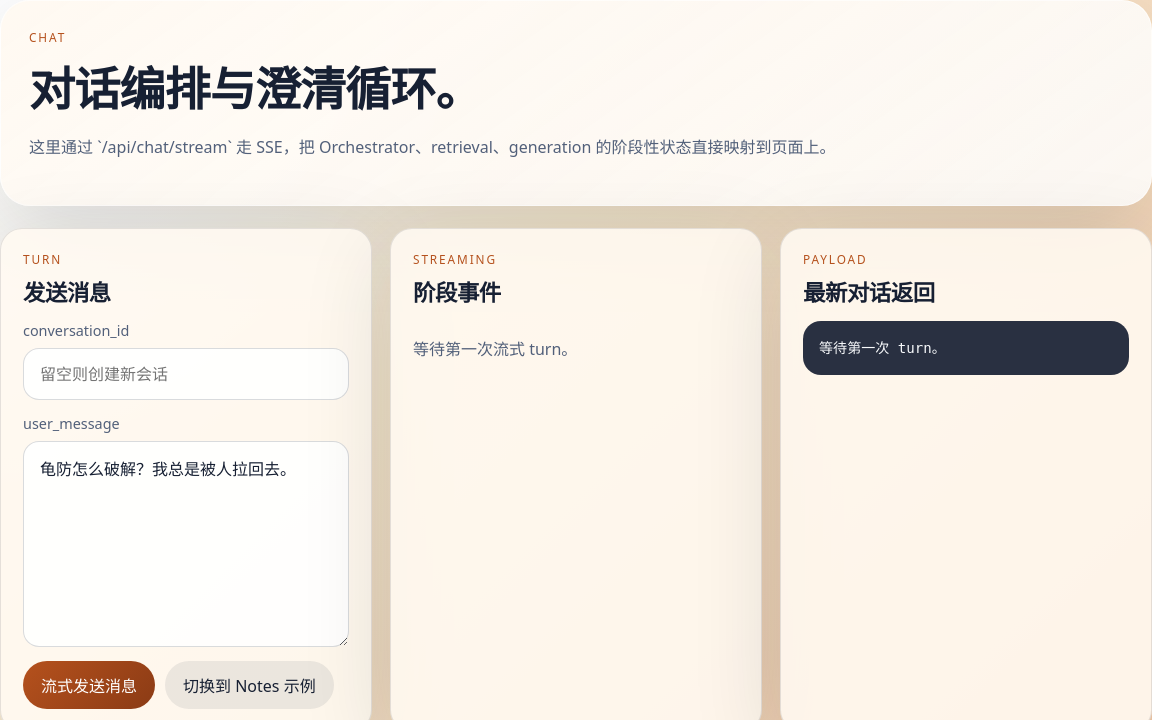
Test: ChatClient › submits a streamed chat turn and stores the returned conversation id
The image size is (1152, 720).
Click the button "流式发送消息". click: (89,685)
box: 23,661 -> 155,709
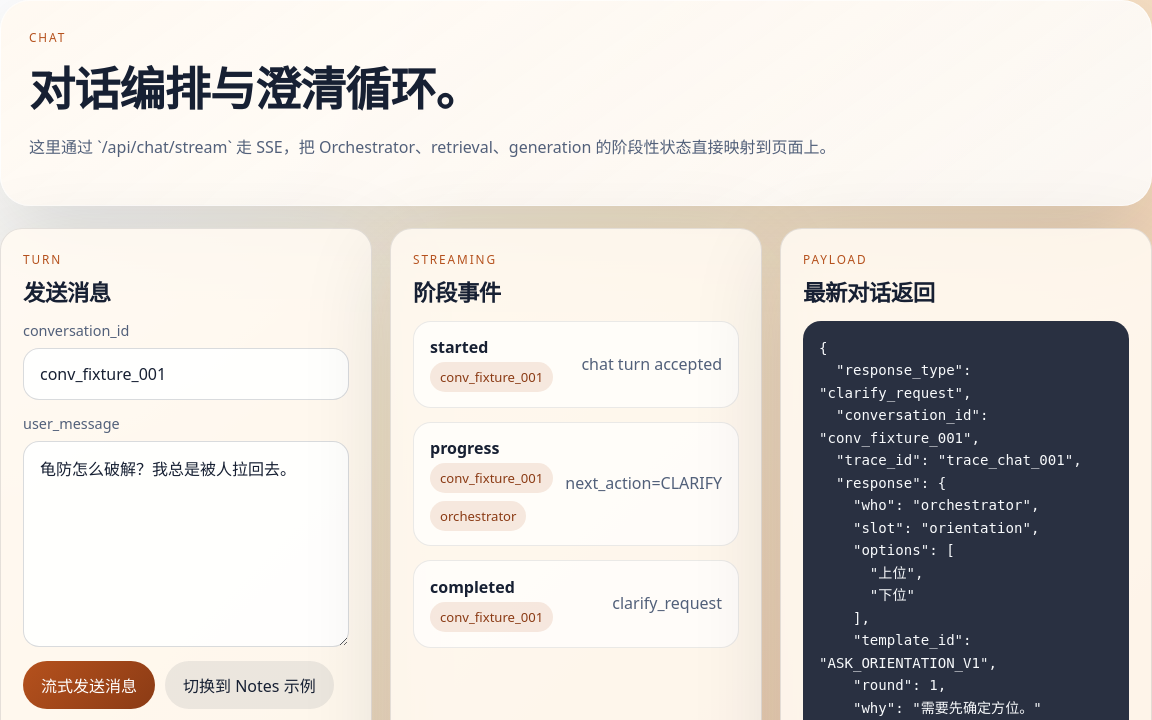
Check: the field showing "conv_fixture_001" is shown, box 23,348 -> 349,400
Check: the text "next_action=CLARIFY" is shown, box 565,471 -> 722,497
